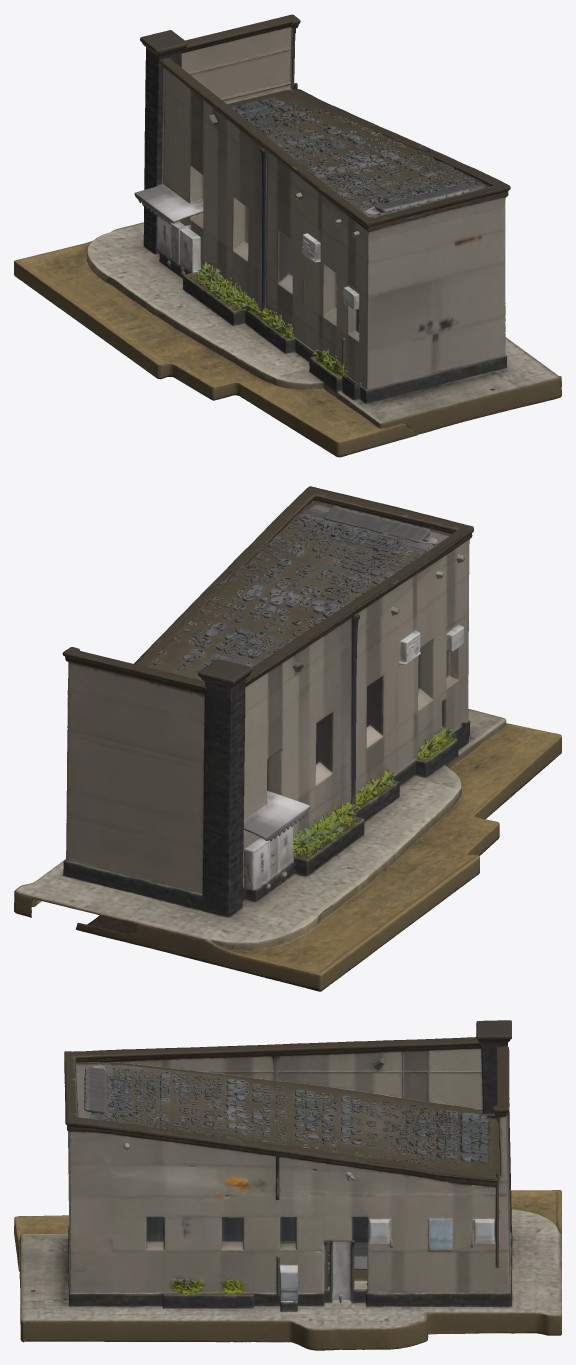
The model's file is abbassia-mental-health-hospital-1.glb.
The picture shows the model from 3 angles, top to bottom: view 1: azimuth 30°, elevation 25°; view 2: azimuth 150°, elevation 25°; view 3: azimuth 270°, elevation 25°; orthographic projection. The views are drawn at different scales.
Bounding box in the file's own units: 0.645 × 0.4767 × 1.
1 material, 1 textured.
